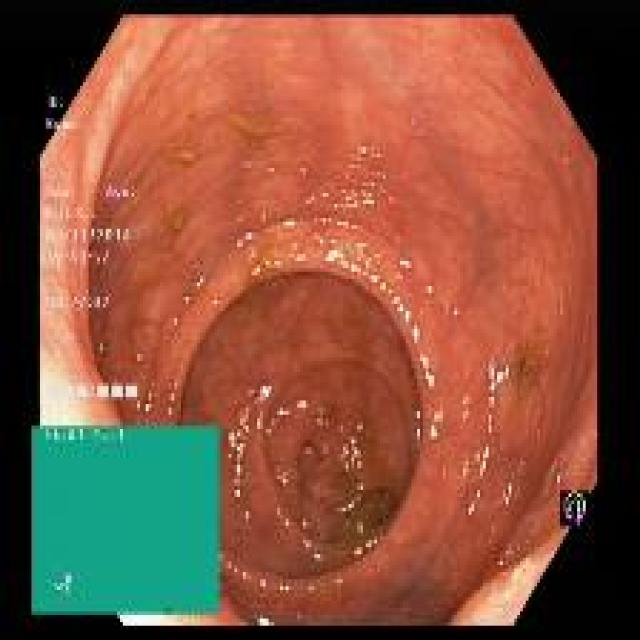ulcerative-colitis: (41, 17, 596, 624)
